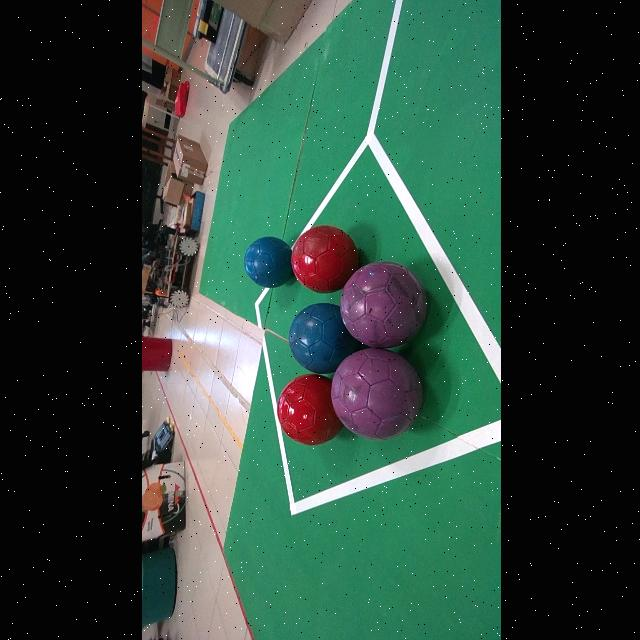B: (287, 304, 359, 373), (242, 238, 291, 287)
P: (330, 348, 421, 440), (339, 262, 425, 348)
R: (290, 225, 356, 293), (277, 376, 341, 445)
